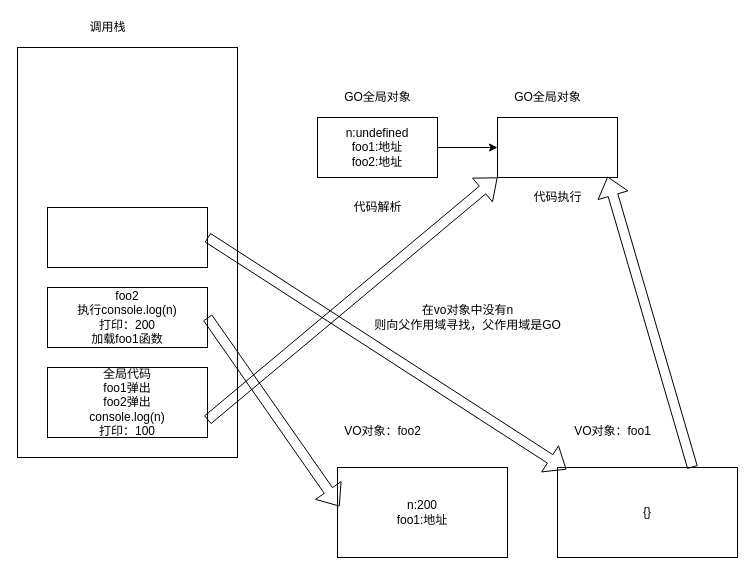
Some shapes in this 755 by 575 pixel diagram are drawn without their labels. The shapes that lost their labels are listed below. From the top down, each one's centre as x and y in pixels, then its label:
(x=557, y=147): n:100 foo1:地址 foo2:地址
(x=127, y=237): foo1 执行console.log(n) 打印：100
